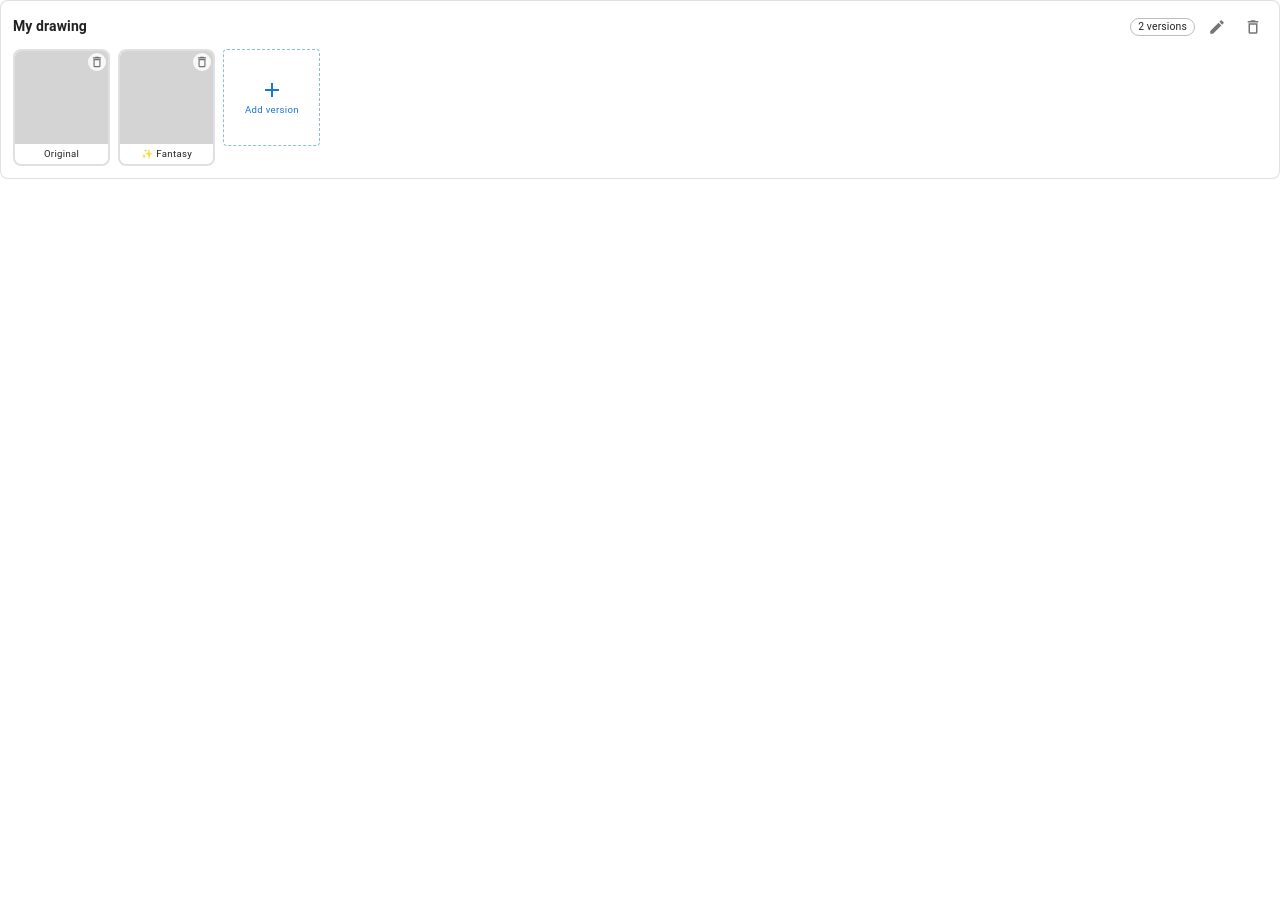
Test: DrawingGroupCard rename (FEAT-160) › a failed rename says so and keeps the dialog open with the typed name
Click the button named "Rename drawing".
click(1217, 27)  # box [1203,13,1231,41]
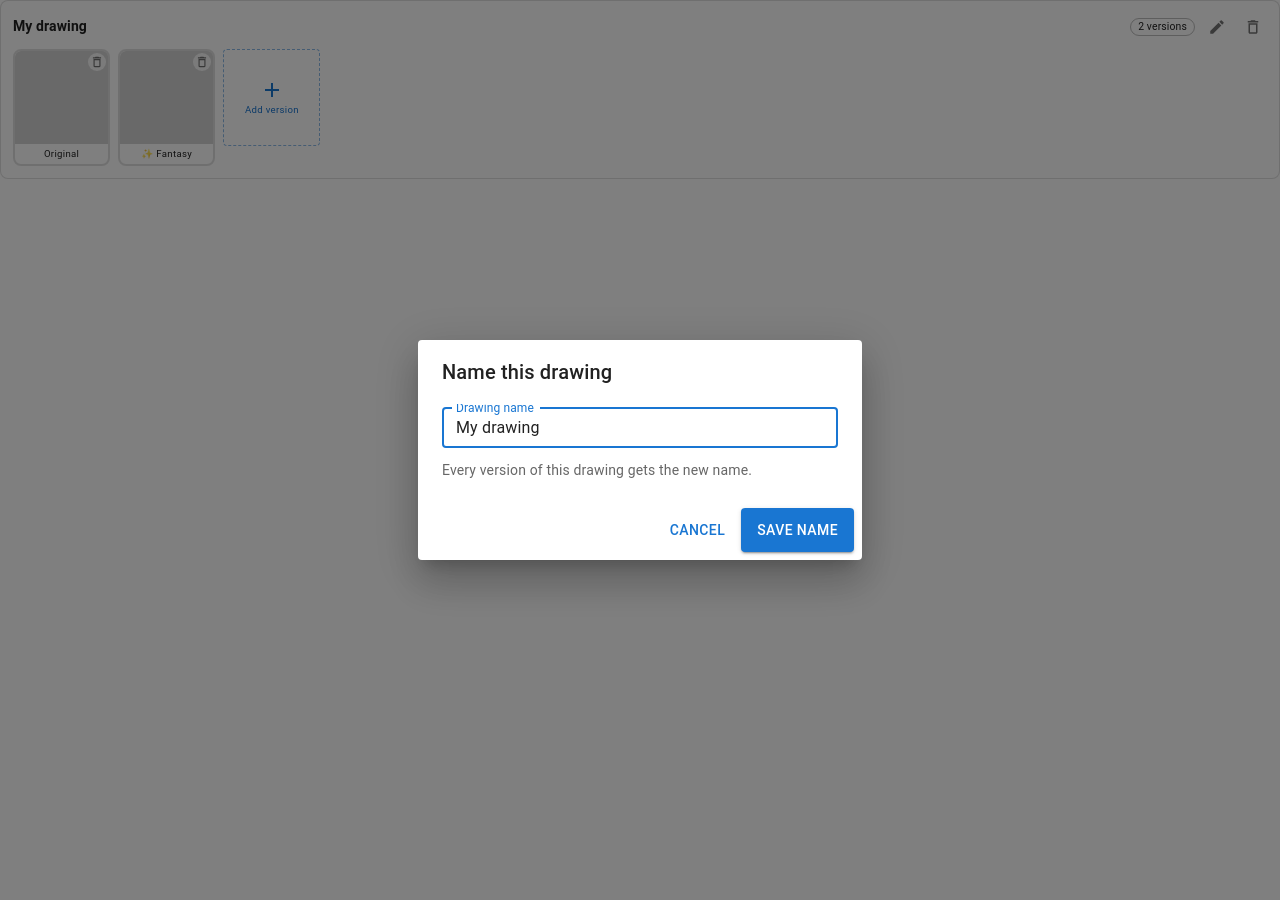
Replace the text in the field labelled "Drawing name" with "Ender dragon" at {"x": 640, "y": 428}, box [442,408,838,448]
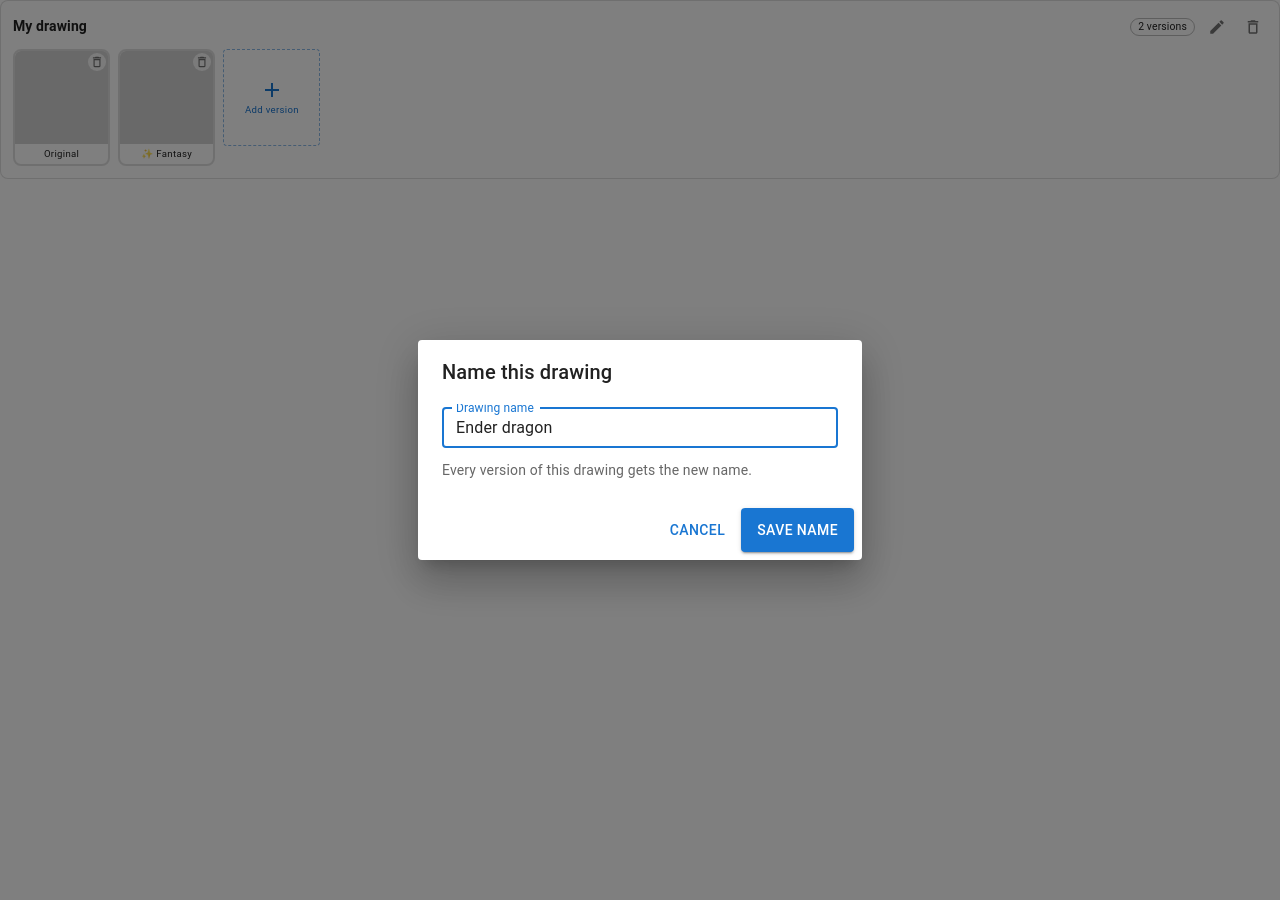
Click the button "Save name".
click(798, 530)  # box [741,508,854,552]
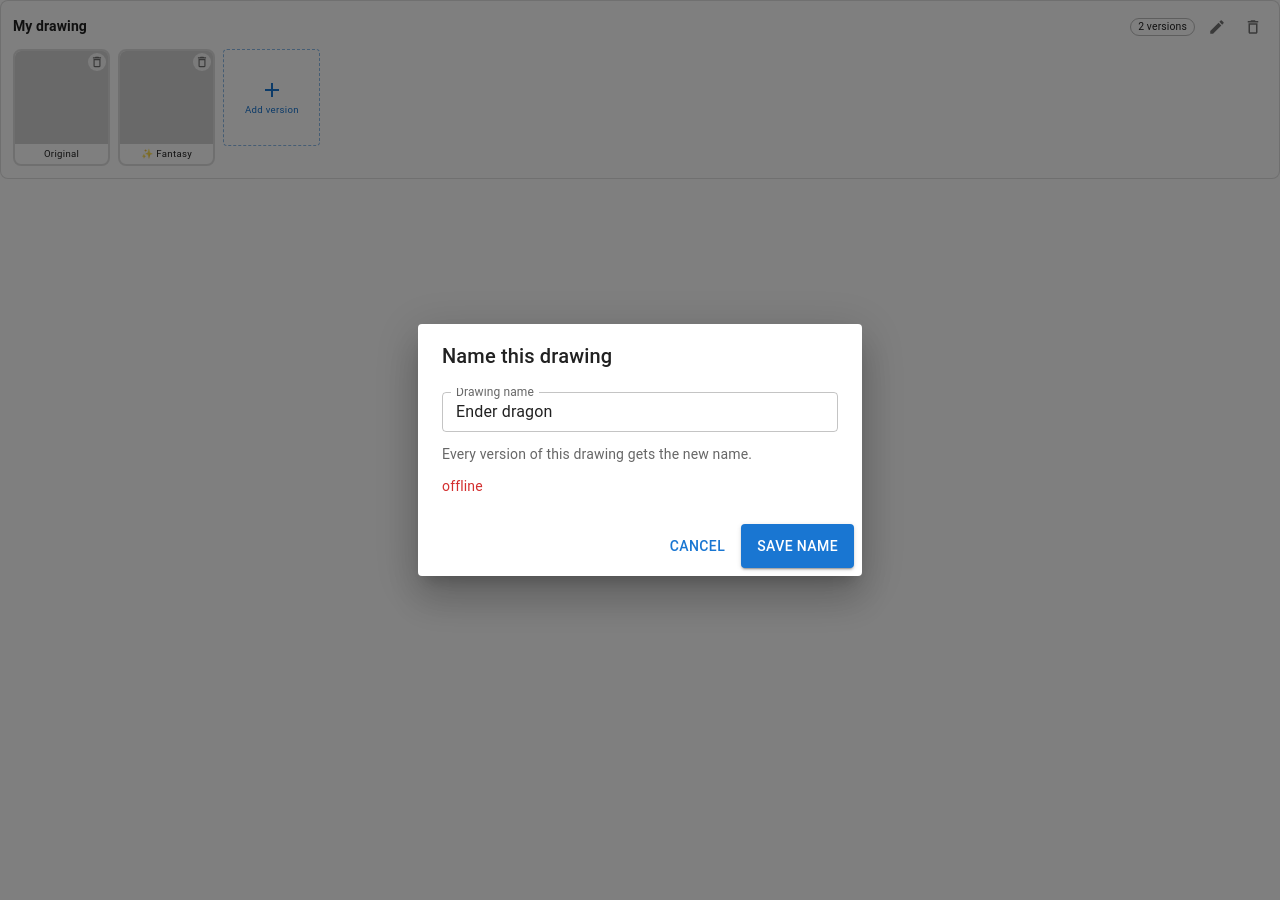
Expected: the text "offline" is shown, [442,478,483,494]
